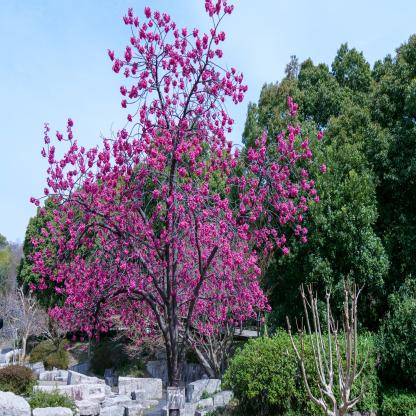KanhiSakura: (27, 0, 326, 350)
